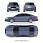car: (24, 1, 36, 12)
